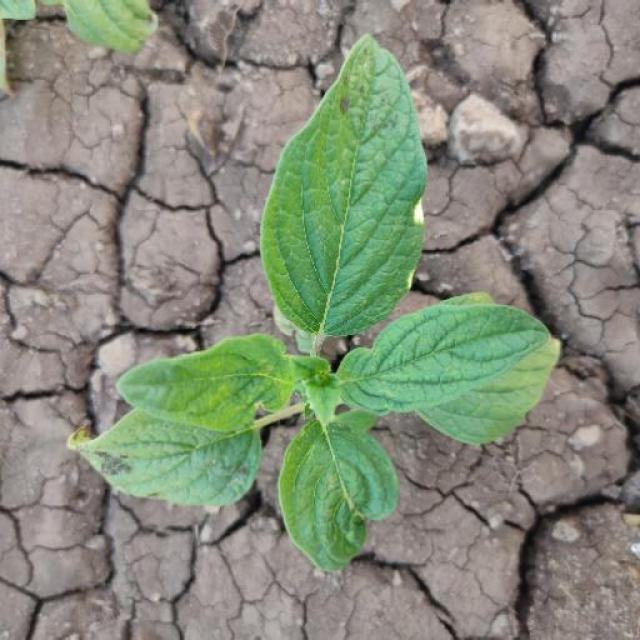crop: (70, 34, 562, 584)
